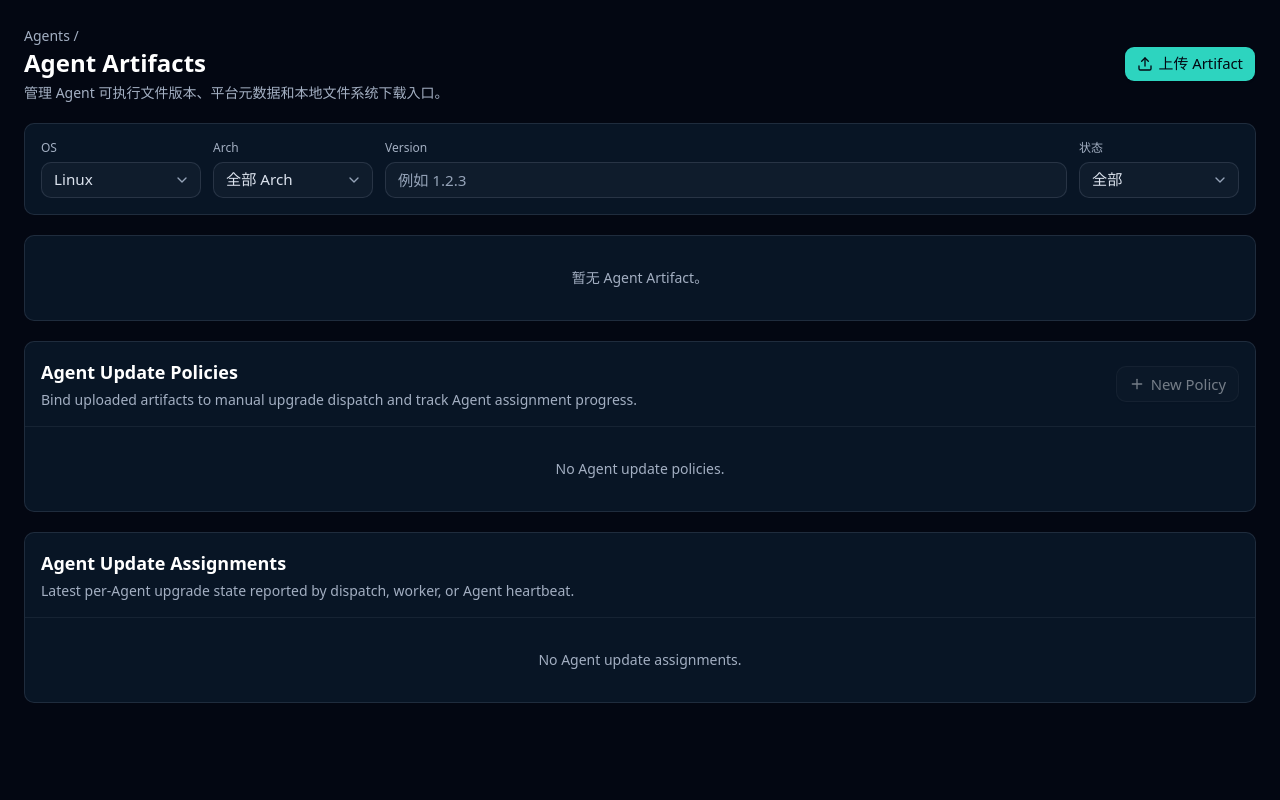
Scenario: ReleasesPage agent artifacts › uses standardized OS and de-duplicated architecture labels in artifact controls
Check: the heading "Agent Artifacts" is shown, box [24,46,206,79]
Click the dropdown named "OS" at coordinates (121, 180), box [41,162,201,198]
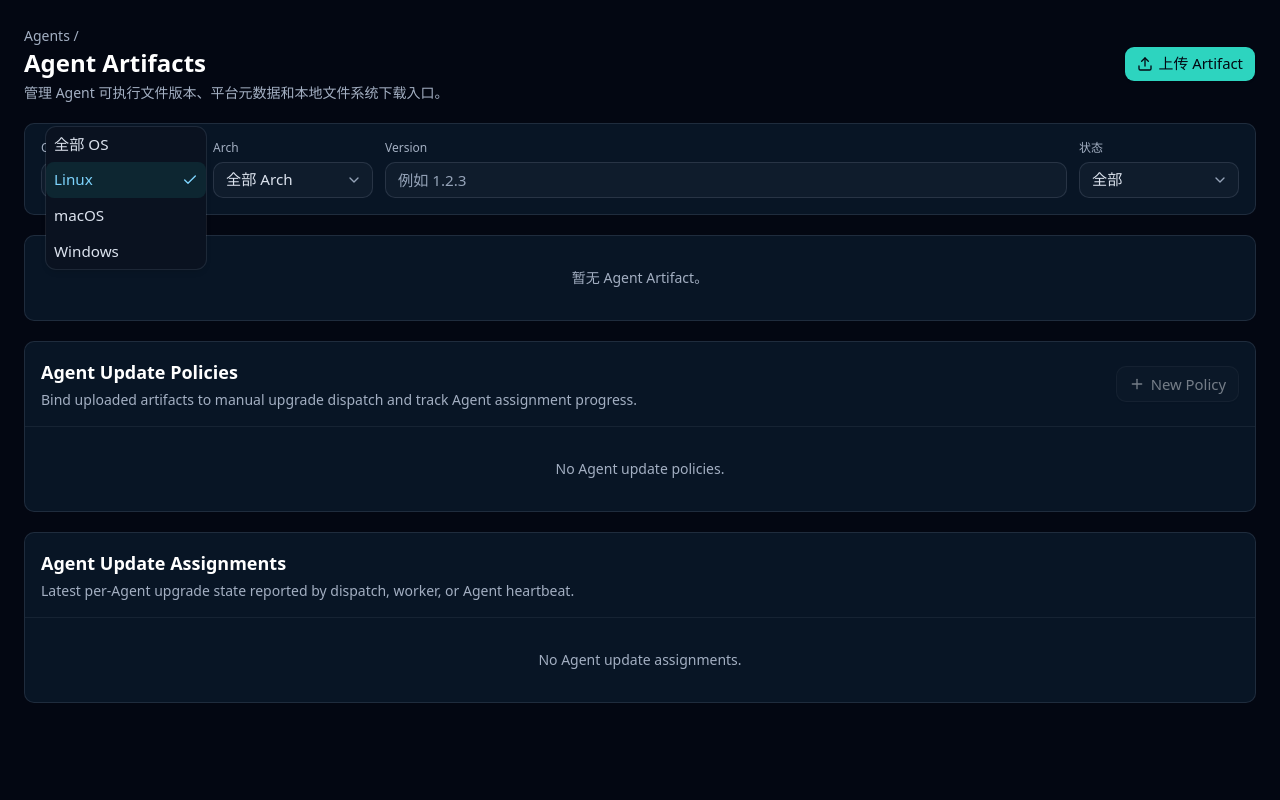
Check: the option "Linux" is shown, box [46,162,206,198]
Check: the option "macOS" is shown, box [54,205,104,225]
Check: the option "Windows" is shown, box [54,241,119,261]
Press Escape
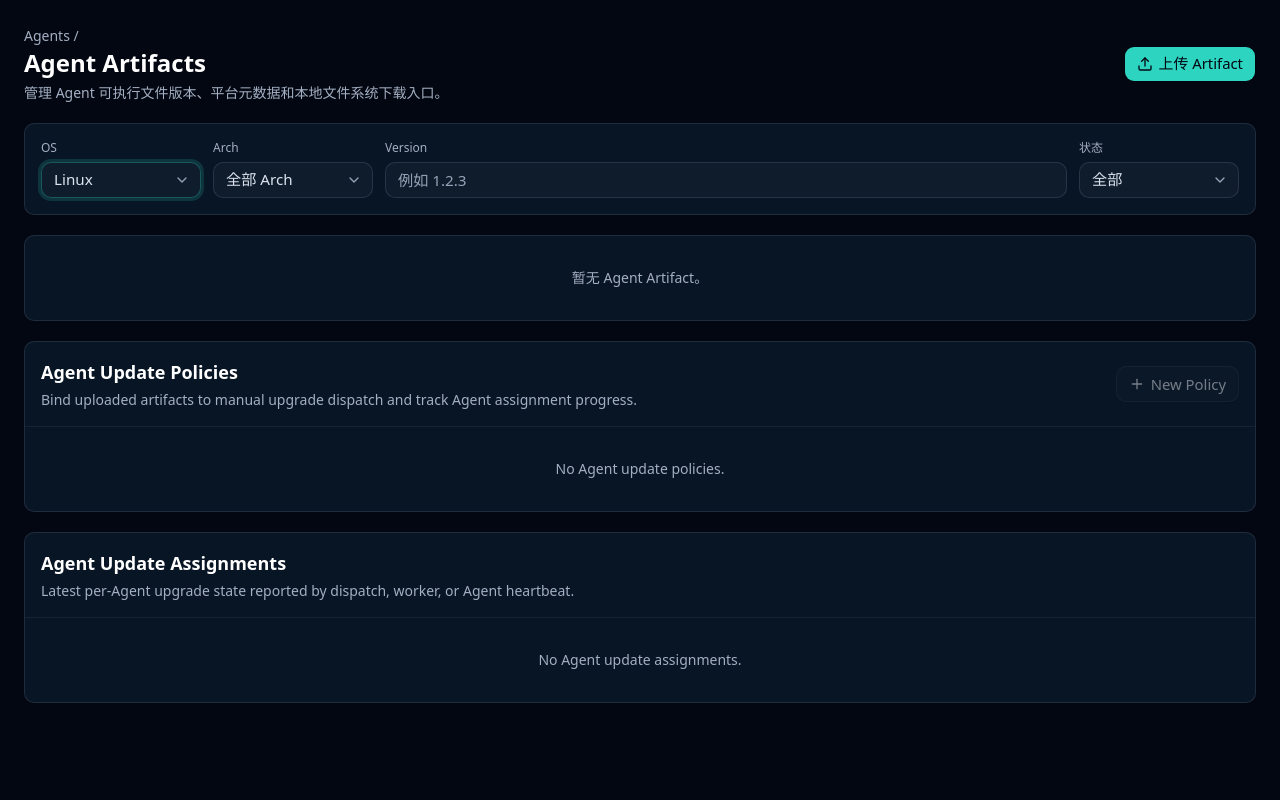
Click the dropdown labelled "Arch" at coordinates (293, 180), box [213,162,373,198]
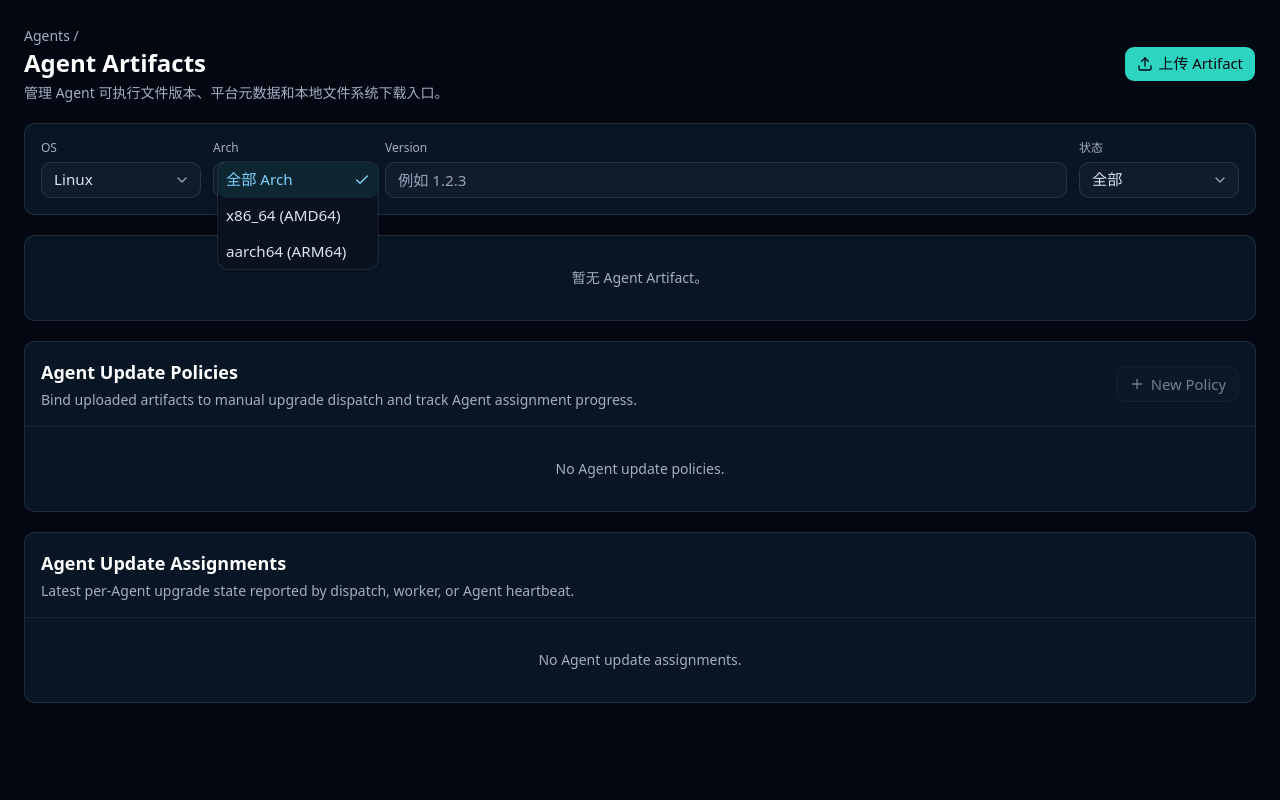
Check: the option "x86_64 (AMD64)" is shown, box [226,205,340,225]
Check: the option "aarch64 (ARM64)" is shown, box [226,241,346,261]
